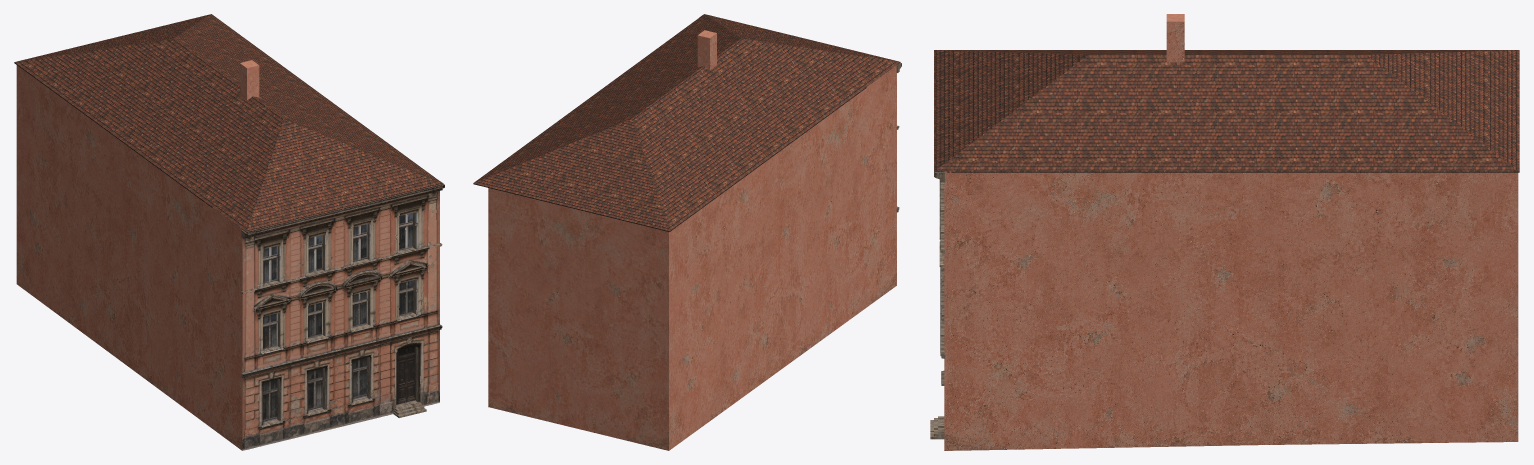
File: cp266_study.glb
The picture shows the model from 3 angles, left to right: view 1: azimuth 30°, elevation 25°; view 2: azimuth 150°, elevation 25°; view 3: azimuth 270°, elevation 25°; orthographic projection. The views are drawn at different scales.
Visible parts, largest first — view 1: CP_266_Masonry, CP_266_Roof, CP_266_Cornice_main_0, CP_266_Cornice_string1_0, CP_266_Cornice_string2_0, CP_266_Chimney_0; view 2: CP_266_Masonry, CP_266_Roof, CP_266_Chimney_0; view 3: CP_266_Masonry, CP_266_Roof, CP_266_Roof_EaveClosure_0, CP_266_Chimney_0.
Part boxes in pixels (<box>): CP_266_Masonry: <box>16,65,439,450</box>; CP_266_Roof: <box>14,14,443,232</box>; CP_266_Cornice_main_0: <box>241,181,444,238</box>; CP_266_Cornice_string1_0: <box>241,324,442,377</box>; CP_266_Cornice_string2_0: <box>241,243,442,294</box>; CP_266_Chimney_0: <box>239,60,259,100</box>; CP_266_Masonry: <box>488,65,896,450</box>; CP_266_Roof: <box>473,14,900,231</box>; CP_266_Chimney_0: <box>697,30,716,70</box>; CP_266_Masonry: <box>944,171,1518,450</box>; CP_266_Roof: <box>934,50,1519,171</box>; CP_266_Roof_EaveClosure_0: <box>951,171,1519,172</box>; CP_266_Chimney_0: <box>1166,14,1184,62</box>.
Size of the model in its own units: 11.29 by 16 by 22.95.
5 materials, 5 textured.
